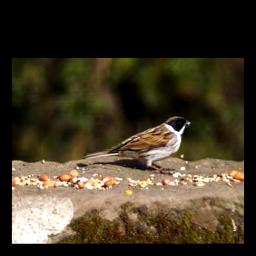Sparrow: (84, 115, 193, 173)
